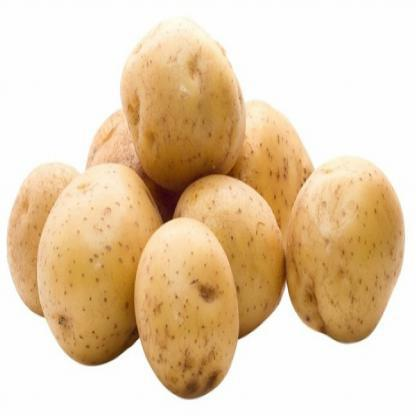potato: (36, 156, 168, 376), (280, 136, 414, 350), (115, 16, 254, 188), (136, 215, 253, 415), (174, 164, 290, 342)
